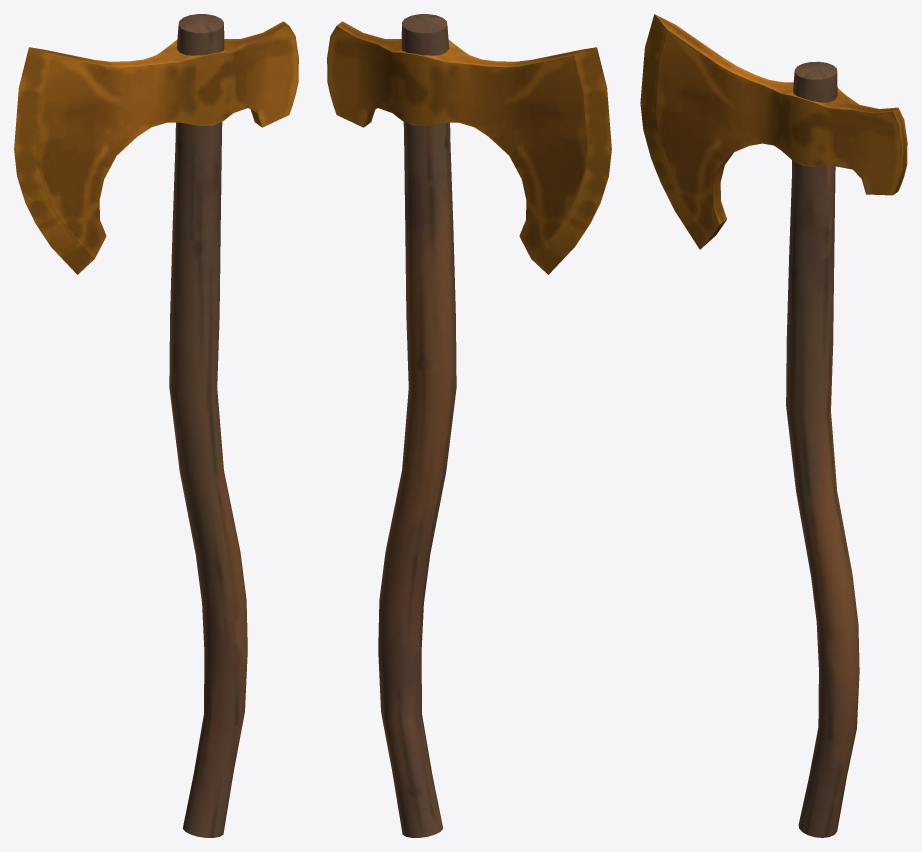
File: prop_axe_bronze.glb
3 views of the same model, side by side, from view 1: azimuth 30°, elevation 25°; view 2: azimuth 150°, elevation 25°; view 3: azimuth 330°, elevation 25° (orthographic). The views are drawn at different scales.
Parts seen in each view (by area): view 1: Axe_Bronze; view 2: Axe_Bronze; view 3: Axe_Bronze.
Boxes of the visible parts, x1,y1,x2,y2 form: Axe_Bronze: (14,14,298,837); Axe_Bronze: (327,14,611,837); Axe_Bronze: (640,14,907,837).
Size of the model in its own units: 0.2945 by 0.8269 by 0.046.
Materials: 1 (1 with a texture image).
